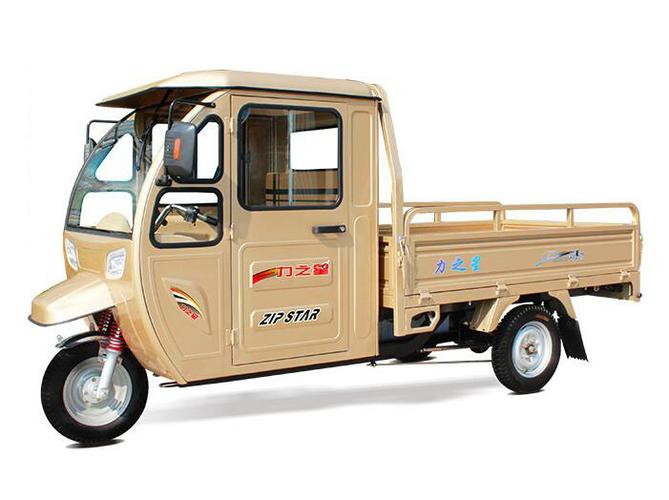empty: (37, 57, 646, 444)
